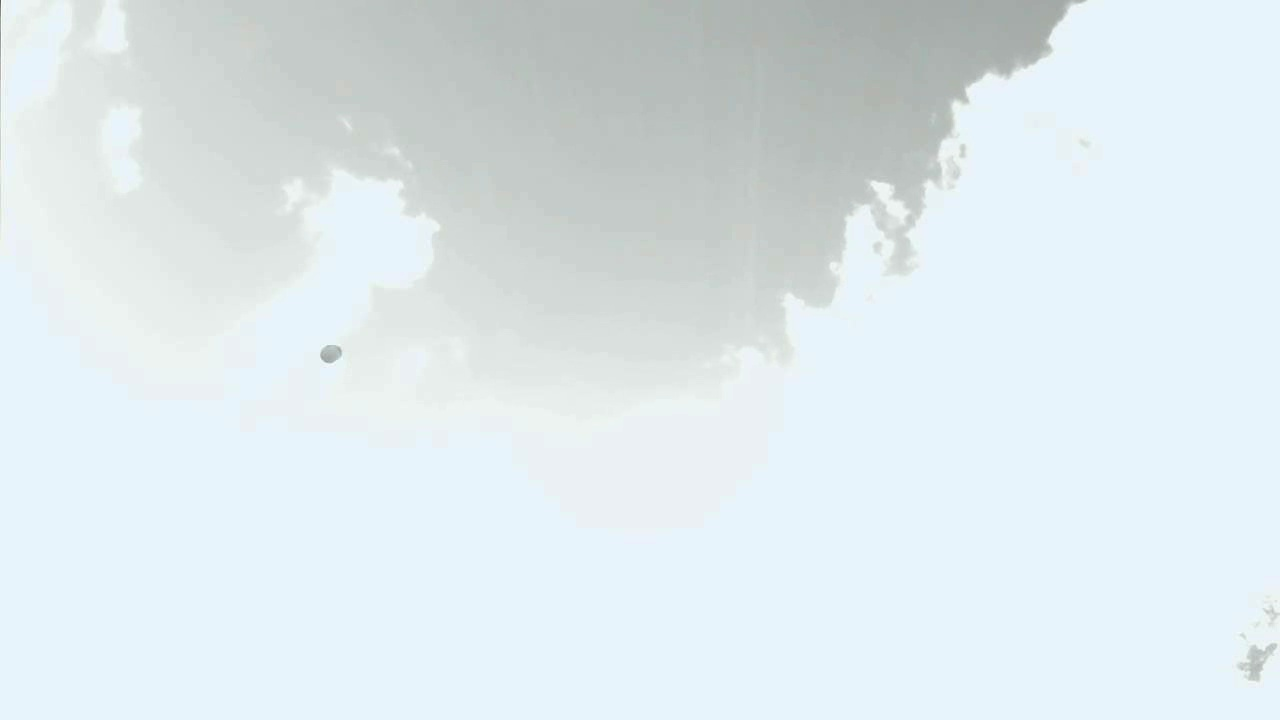Football-Spotter: (320, 345, 341, 363)
